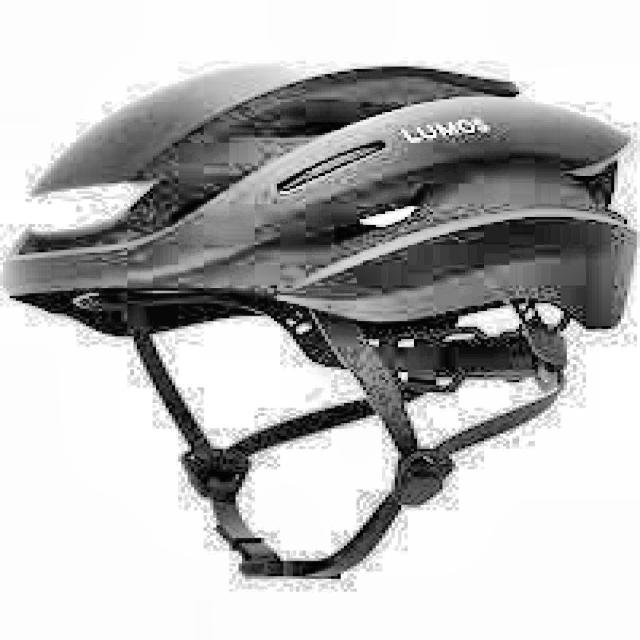Helmet: (11, 40, 635, 602)
